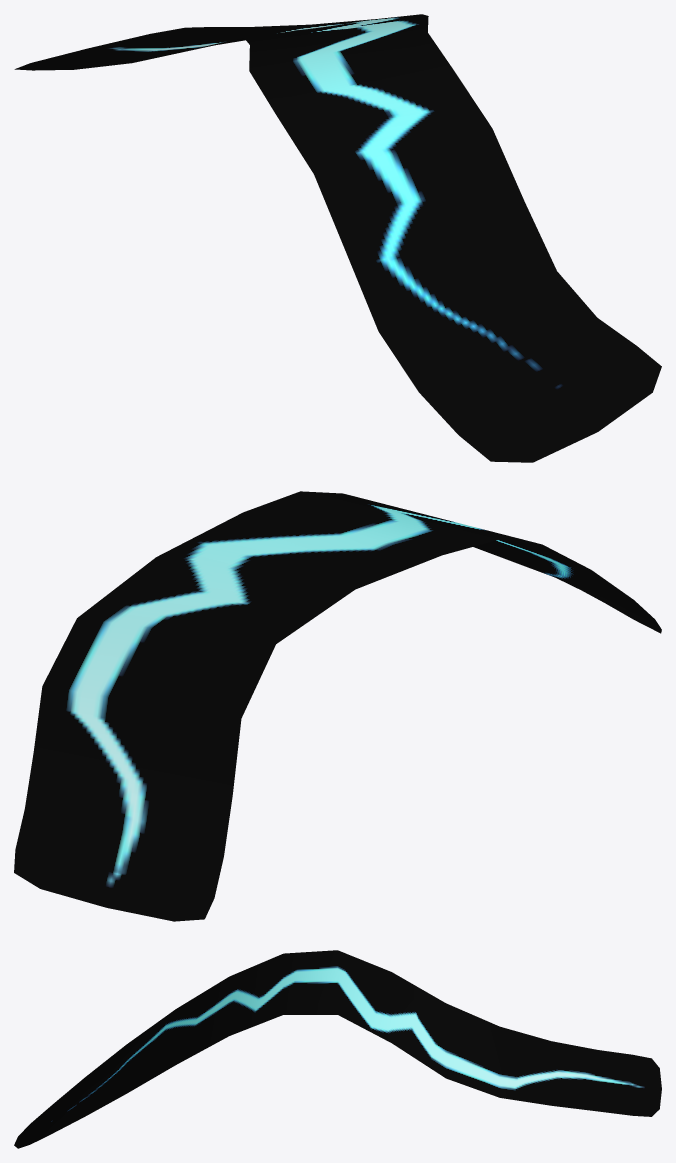
The model's file is lightining.fbx.
3 renders of one model, top to bottom at view 1: azimuth 30°, elevation 25°; view 2: azimuth 150°, elevation 25°; view 3: azimuth 270°, elevation 25°, orthographic. The views are drawn at different scales.
Visible parts, largest first — view 1: Plane; view 2: Plane; view 3: Plane.
Boxes of the visible parts, x1,y1,x2,y2 form: Plane: (14, 14, 661, 462); Plane: (14, 491, 661, 921); Plane: (14, 950, 661, 1148).
Bounding box in the file's own units: 67.66 × 56.75 × 199.
